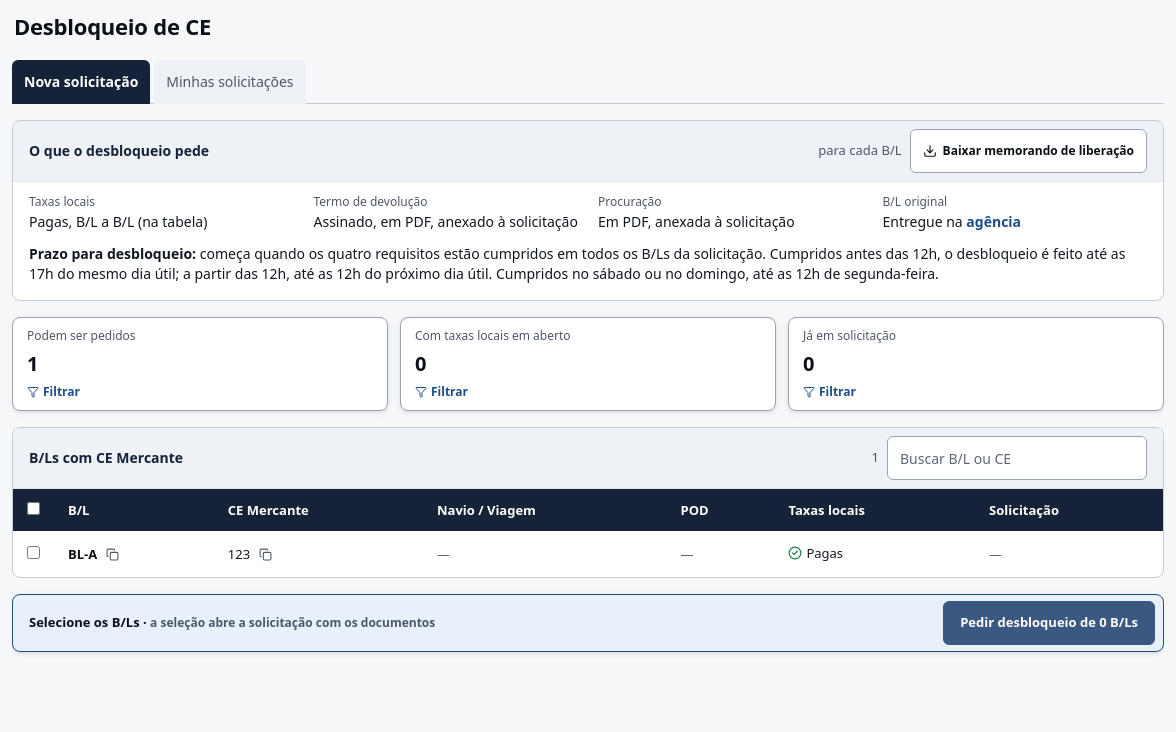
mostra B/L pago e permite seleção para pedir o desbloqueio
The width and height of the screenshot is (1176, 732).
Expected: the button "Pedir desbloqueio de 0 B/Ls" is disabled, left=943, top=601, right=1155, bottom=645
What coordinates should you click on to do the following:
click the checkbox named "Selecionar B/L BL-A"
I would click on:
 (34, 552)
Its box is left=27, top=546, right=40, bottom=559.
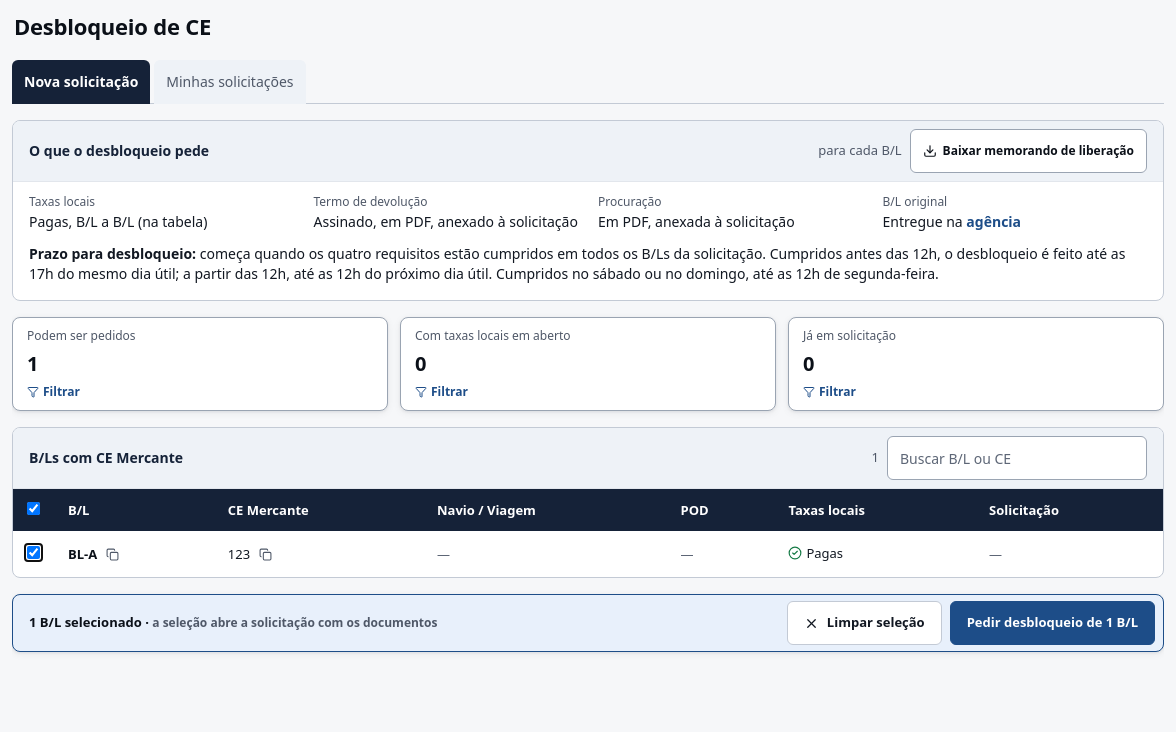
Expected: the button "Pedir desbloqueio de 1 B/L" is enabled, left=950, top=601, right=1155, bottom=645
